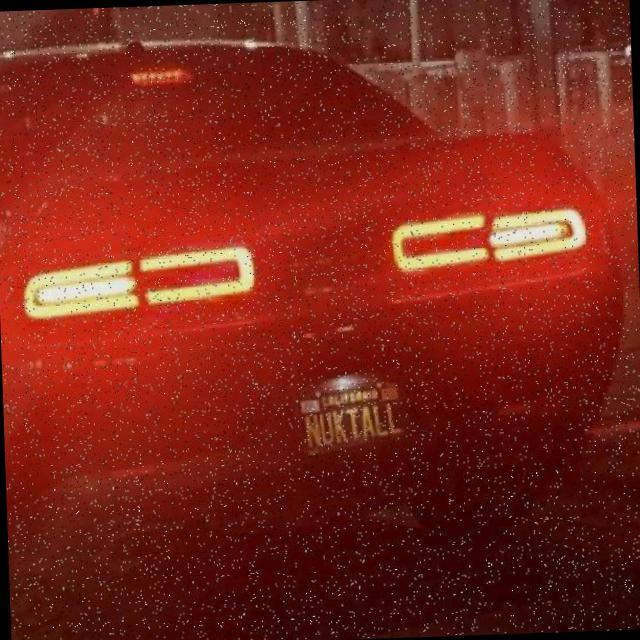LicensePlate: (288, 374, 407, 459)
